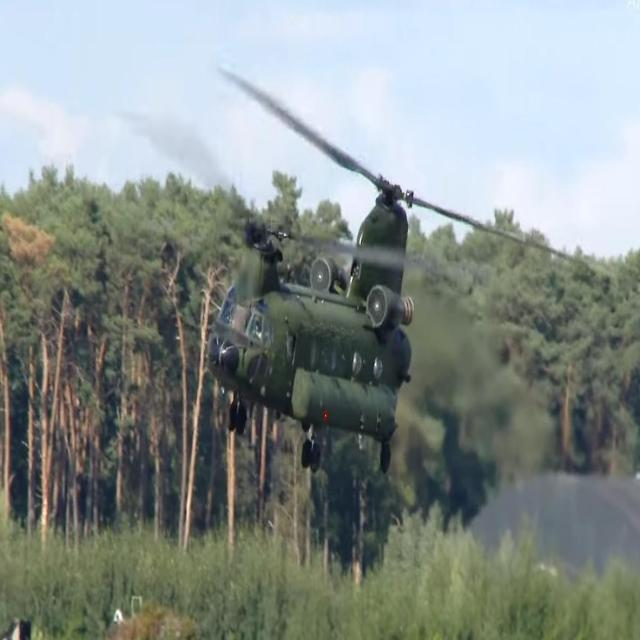Helicopter: (201, 154, 418, 481)
